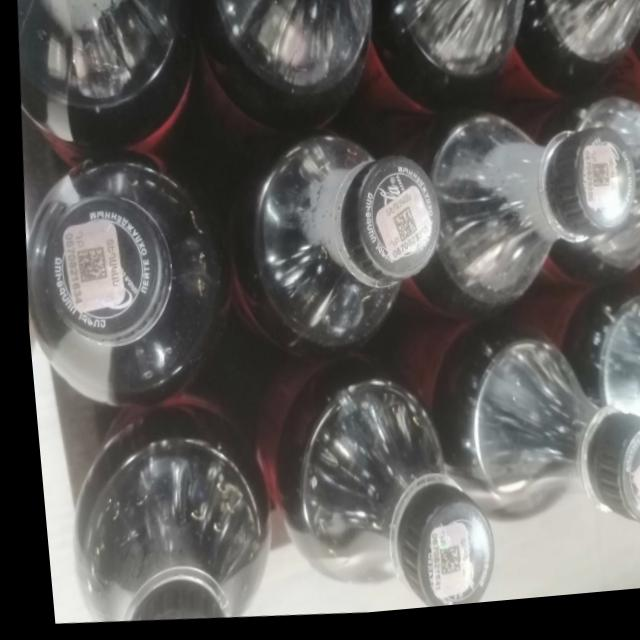datamatrix: (68, 244, 105, 291), (386, 212, 416, 253), (425, 550, 453, 587), (584, 171, 609, 203)
